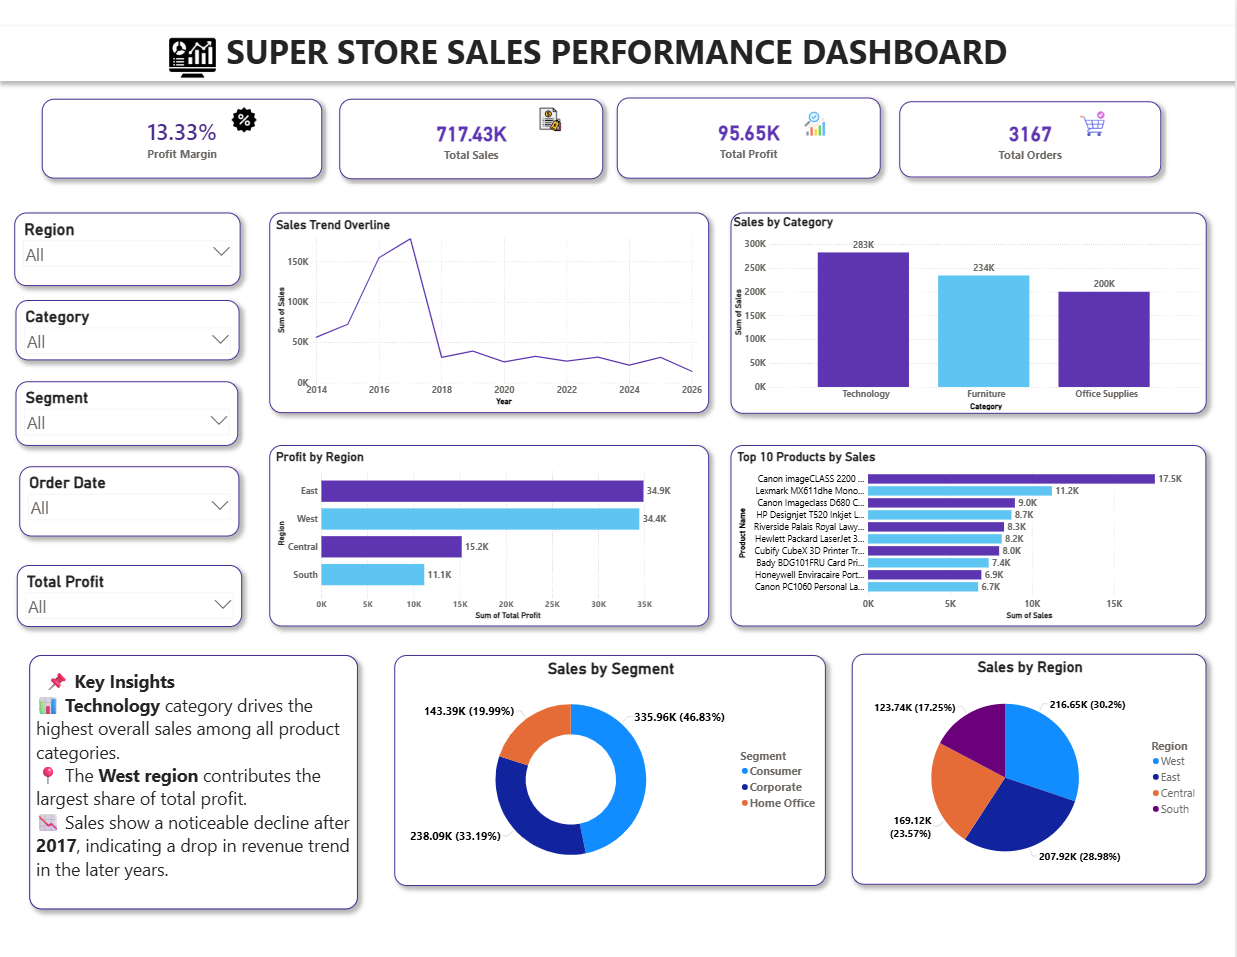

The dashboard page shown, as its layout file describes it:
{"tool":"powerbi","page":{"name":"Page 1","canvas":[3000,2400],"ordinal":0},"visuals":[{"type":"shape","box":[76.7,1586.7,796.7,616.7],"z":0},{"type":"textbox","box":[76.7,1586.7,796.7,616.7],"z":1000},{"type":"card","fields":{"Values":["Sum(Superstore sales data cleaned.Sales)"]},"box":[826.2,240,640,195],"z":2000},{"type":"card","fields":{"Values":["Sum(Superstore sales data cleaned.Profit)"]},"box":[1500,236.7,640,196.7],"z":3000},{"type":"card","fields":{"Values":["CountNonNull(Superstore sales data cleaned.Order ID)"]},"box":[2185,245,635,185],"z":4000},{"type":"lineChart","title":"Sales Trend Overline","fields":{"Category":["Superstore sales data cleaned.Order Date.Variation.Date Hierarchy.Year","Superstore sales data cleaned.Order Date.Variation.Date Hierarchy.Quarter","Superstore sales data cleaned.Order Date.Variation.Date Hierarchy.Month","Superstore sales data cleaned.Order Date.Variation.Date Hierarchy.Day"],"Y":["Sum(Superstore sales data cleaned.Sales)"]},"box":[656.7,516.6,1066.7,486.7],"z":5000},{"type":"clusteredColumnChart","title":"Sales by Category","fields":{"Category":["Superstore sales data cleaned.Category"],"Y":["Sum(Superstore sales data cleaned.Sales)"]},"box":[1776,516,1154,488],"z":6000},{"type":"clusteredBarChart","title":"Profit by Region","fields":{"Category":["Superstore sales data cleaned.Region"],"Y":["Sum(Superstore sales data cleaned.Total Profit)"]},"box":[656.7,1080,1066.7,440],"z":7000},{"type":"clusteredBarChart","title":"Top 10 Products by Sales","fields":{"Category":["Superstore sales data cleaned.Product Name"],"Y":["Sum(Superstore sales data cleaned.Sales)"]},"box":[1776.7,1080,1153.3,440],"z":8000},{"type":"textbox","box":[0,64.3,3000,132.7],"z":9000},{"type":"image","box":[1940,270,80,60],"z":10000},{"type":"image","box":[1310,240,60,100],"z":11000},{"type":"image","box":[2570,270,165,60],"z":12000},{"type":"slicer","fields":{"Values":["Superstore sales data cleaned.Region"]},"box":[40.8,515.8,549.2,178.1],"z":13000},{"type":"slicer","fields":{"Values":["Superstore sales data cleaned.Category"]},"box":[43.3,725.8,543.3,146.7],"z":14000},{"type":"slicer","fields":{"Values":["Superstore sales data cleaned.Segment"]},"box":[43.3,923.3,540,156.7],"z":15000},{"type":"slicer","fields":{"Values":["Superstore sales data cleaned.Order Date"]},"box":[50,1130,533.3,170],"z":16000},{"type":"slicer","fields":{"Values":["Superstore sales data cleaned.Total Profit"]},"box":[46.7,1370,546.7,150],"z":17000},{"type":"donutChart","title":"Sales by Segment","fields":{"Category":["Superstore sales data cleaned.Segment"],"Y":["Sum(Superstore sales data cleaned.Sales)"]},"box":[960,1586.7,1046.7,560],"z":18000},{"type":"pieChart","title":"Sales by Region","fields":{"Category":["Superstore sales data cleaned.Region"],"Y":["Sum(Superstore sales data cleaned.Sales)"]},"box":[2070,1585,860,560],"z":19000},{"type":"cardVisual","fields":{"Data":["Superstore sales data cleaned.Profit Margin 1 %"]},"box":[106.7,240,680,193.3],"z":20000},{"type":"image","box":[540,260,115,60],"z":21000},{"type":"image","box":[152.8,80.4,639.4,116.6],"z":22000}]}

Visuals, with their boxes in screenshot pixels (x1, y1, x2, y2):
shape: region(34, 650, 359, 901)
textbox: region(34, 650, 359, 901)
card - Sum(Superstore sales data cleaned.Sales): region(340, 101, 601, 181)
card - Sum(Superstore sales data cleaned.Profit): region(615, 100, 875, 180)
card - CountNonNull(Superstore sales data cleaned.Order ID): region(894, 103, 1153, 178)
"Sales Trend Overline" lineChart: region(271, 214, 706, 412)
"Sales by Category" clusteredColumnChart: region(727, 214, 1197, 412)
"Profit by Region" clusteredBarChart: region(271, 443, 706, 623)
"Top 10 Products by Sales" clusteredBarChart: region(727, 443, 1197, 623)
textbox: region(3, 29, 1226, 84)
image: region(794, 113, 827, 138)
image: region(537, 101, 562, 142)
image: region(1051, 113, 1118, 138)
slicer - Superstore sales data cleaned.Region: region(20, 213, 244, 286)
slicer - Superstore sales data cleaned.Category: region(21, 299, 242, 359)
slicer - Superstore sales data cleaned.Segment: region(21, 380, 241, 443)
slicer - Superstore sales data cleaned.Order Date: region(24, 464, 241, 533)
slicer - Superstore sales data cleaned.Total Profit: region(22, 562, 245, 623)
"Sales by Segment" donutChart: region(394, 650, 821, 878)
"Sales by Region" pieChart: region(847, 649, 1197, 877)
cardVisual - Superstore sales data cleaned.Profit Margin 1 %: region(47, 101, 324, 180)
image: region(223, 109, 270, 134)
image: region(65, 36, 326, 84)
